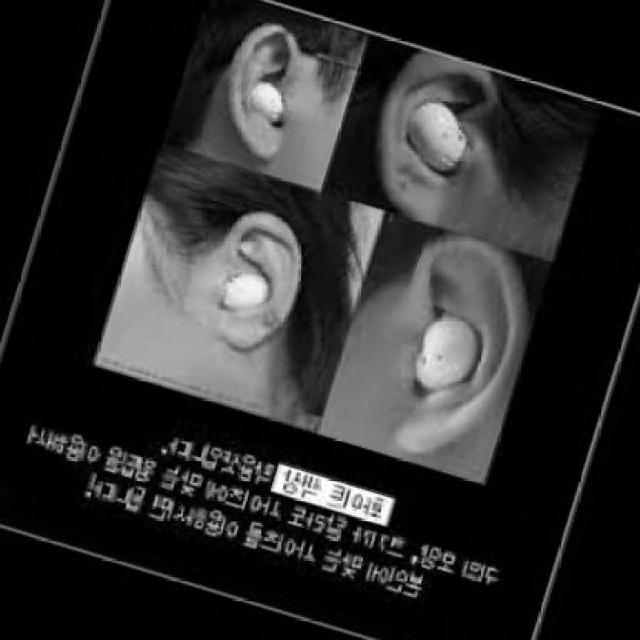earphone: (403, 90, 472, 184), (403, 303, 472, 387), (243, 77, 309, 144), (217, 248, 275, 323)
